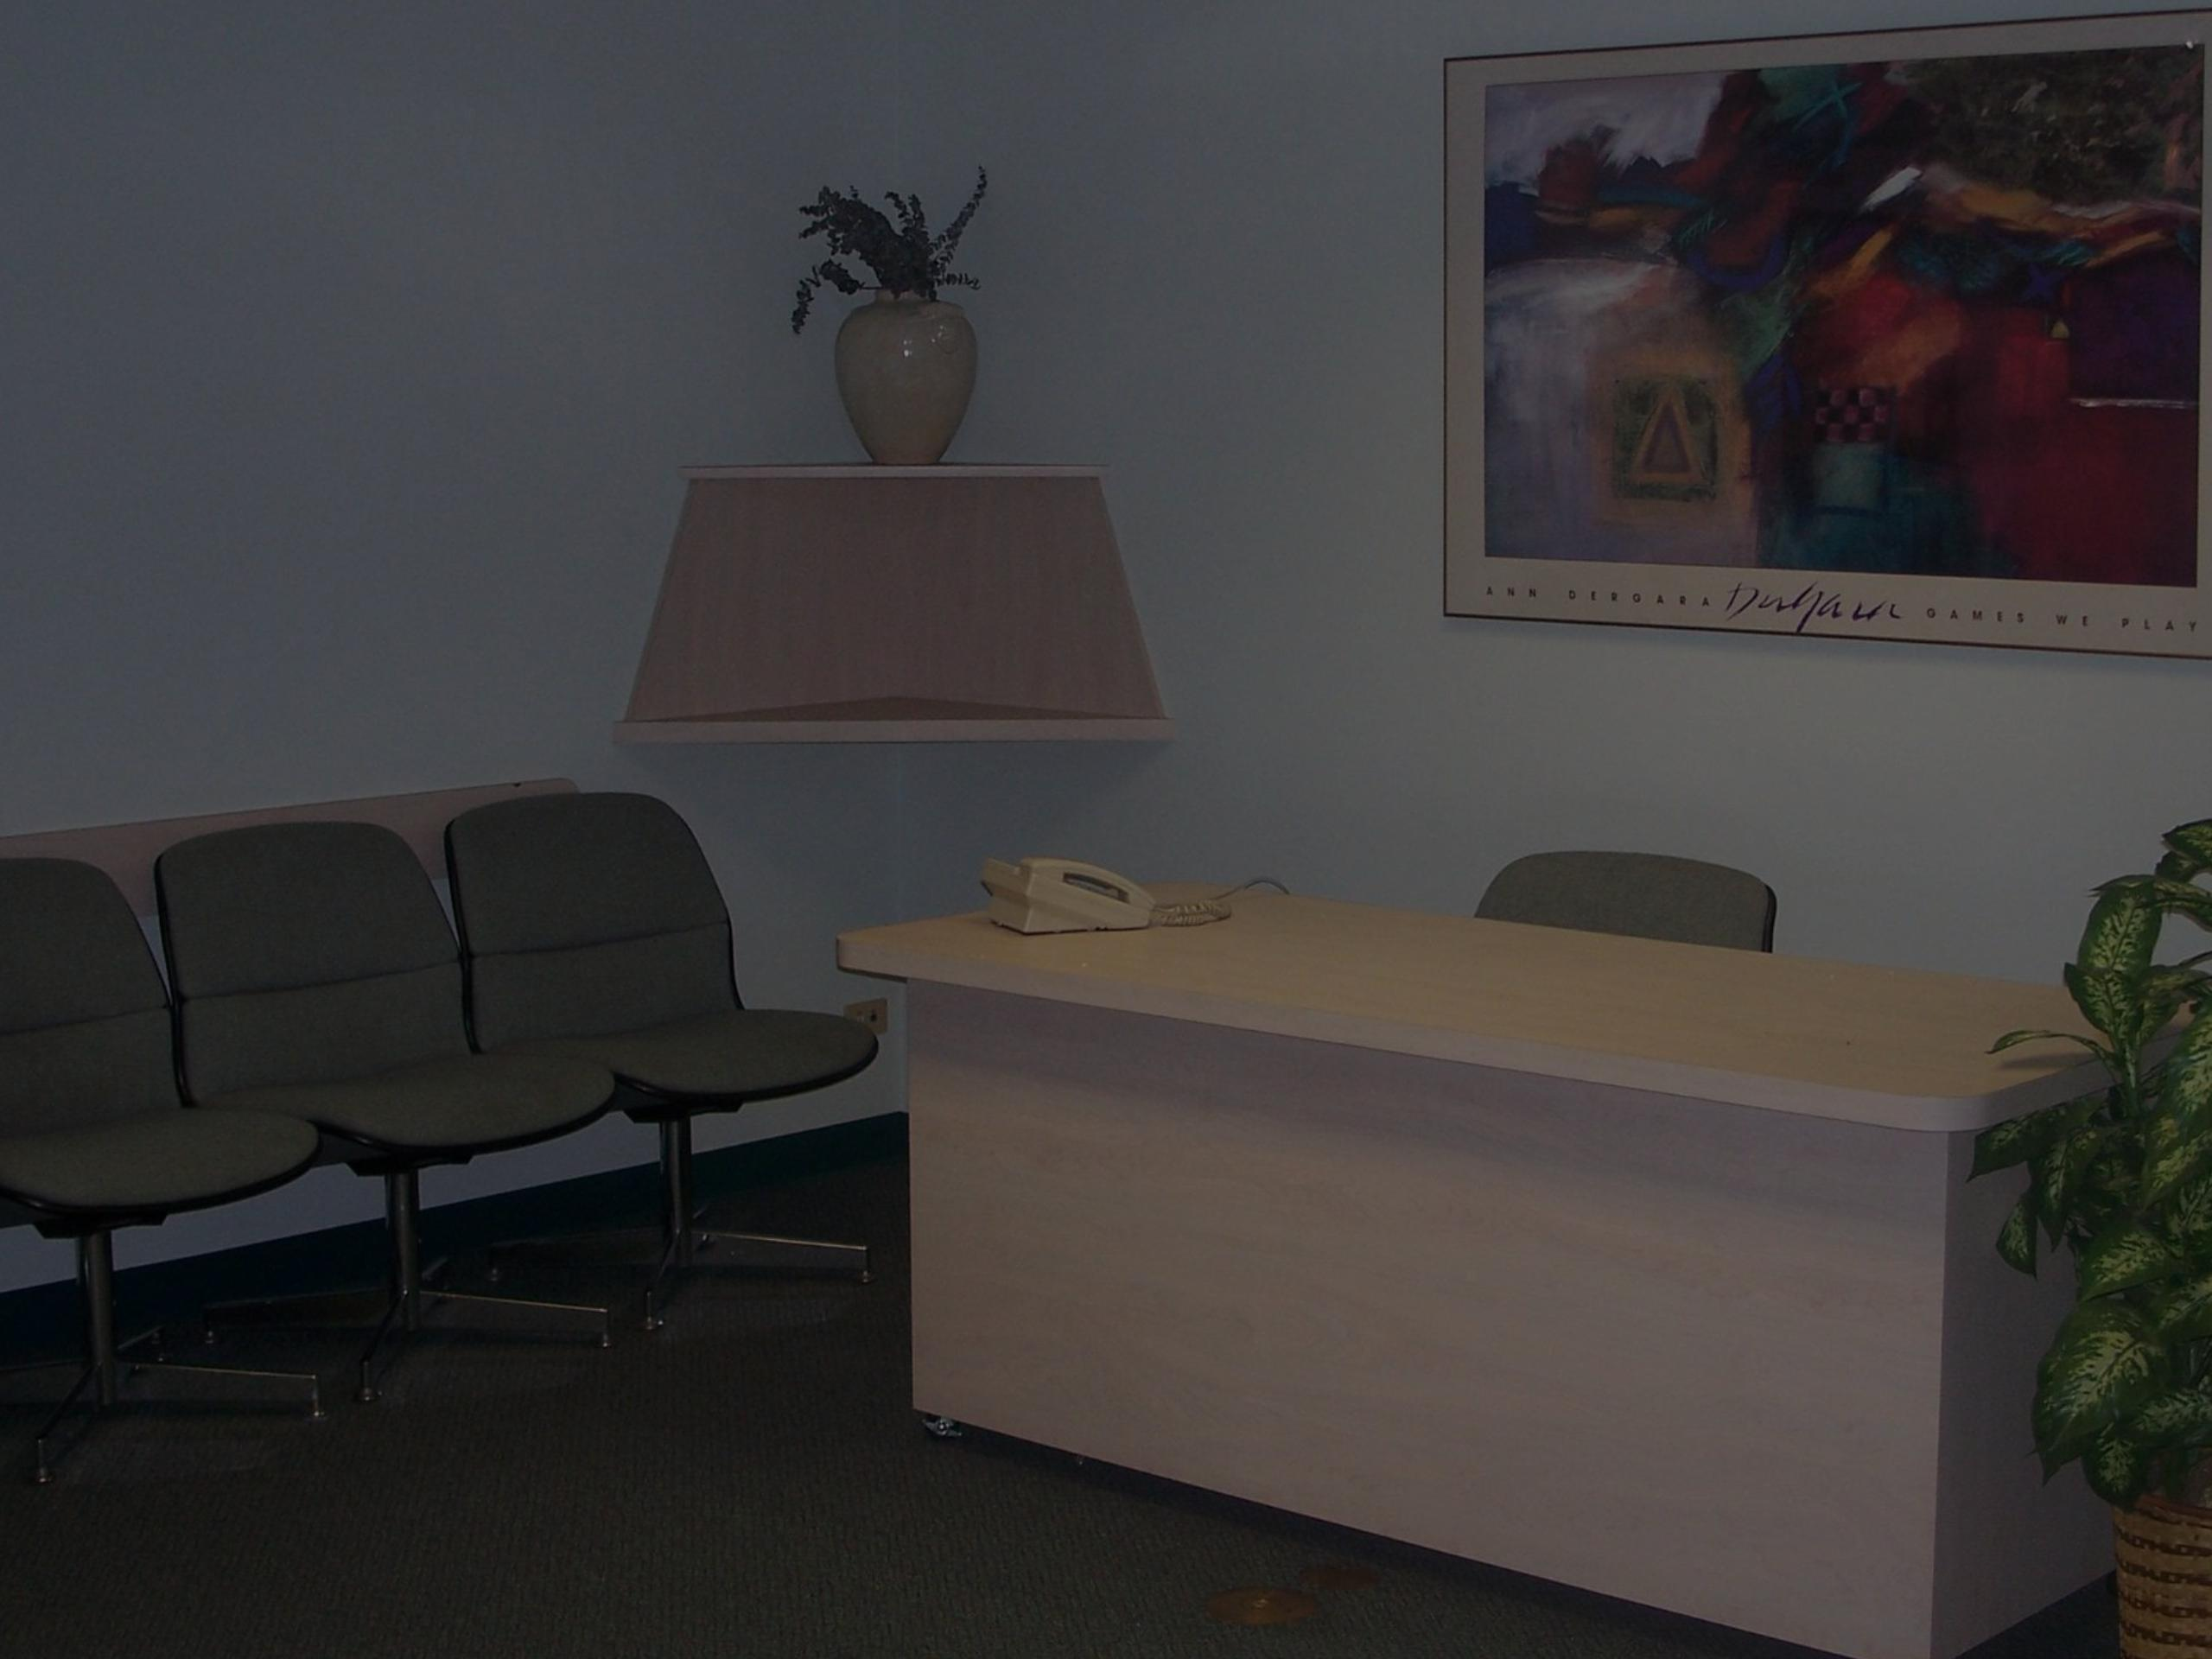Matera: (2003, 753, 2212, 1659)
